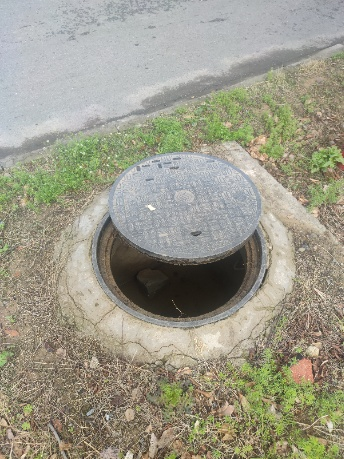well: (91, 153, 270, 327)
